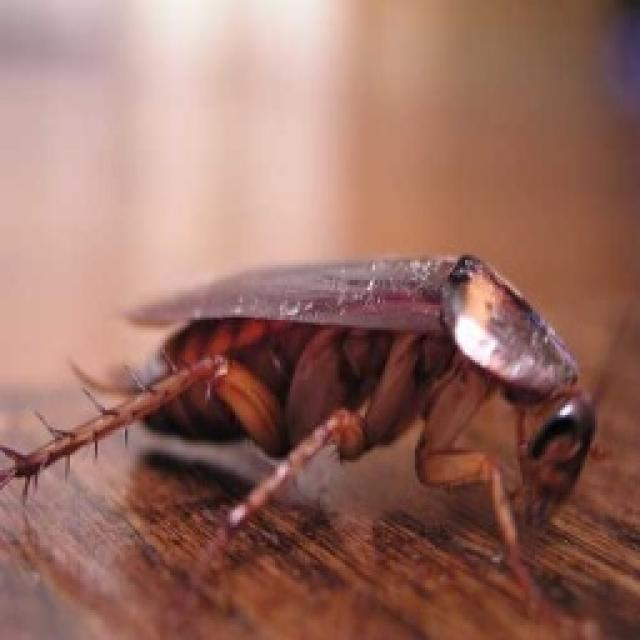cockroach: (5, 248, 604, 614)
